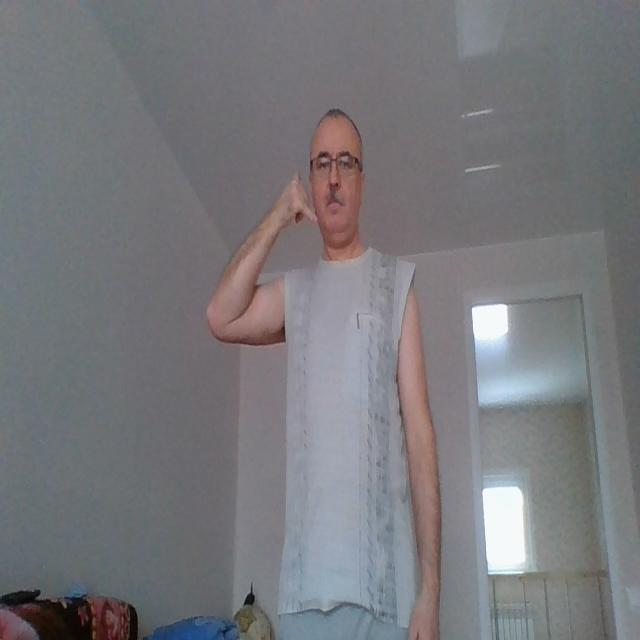call: (277, 166, 319, 233)
